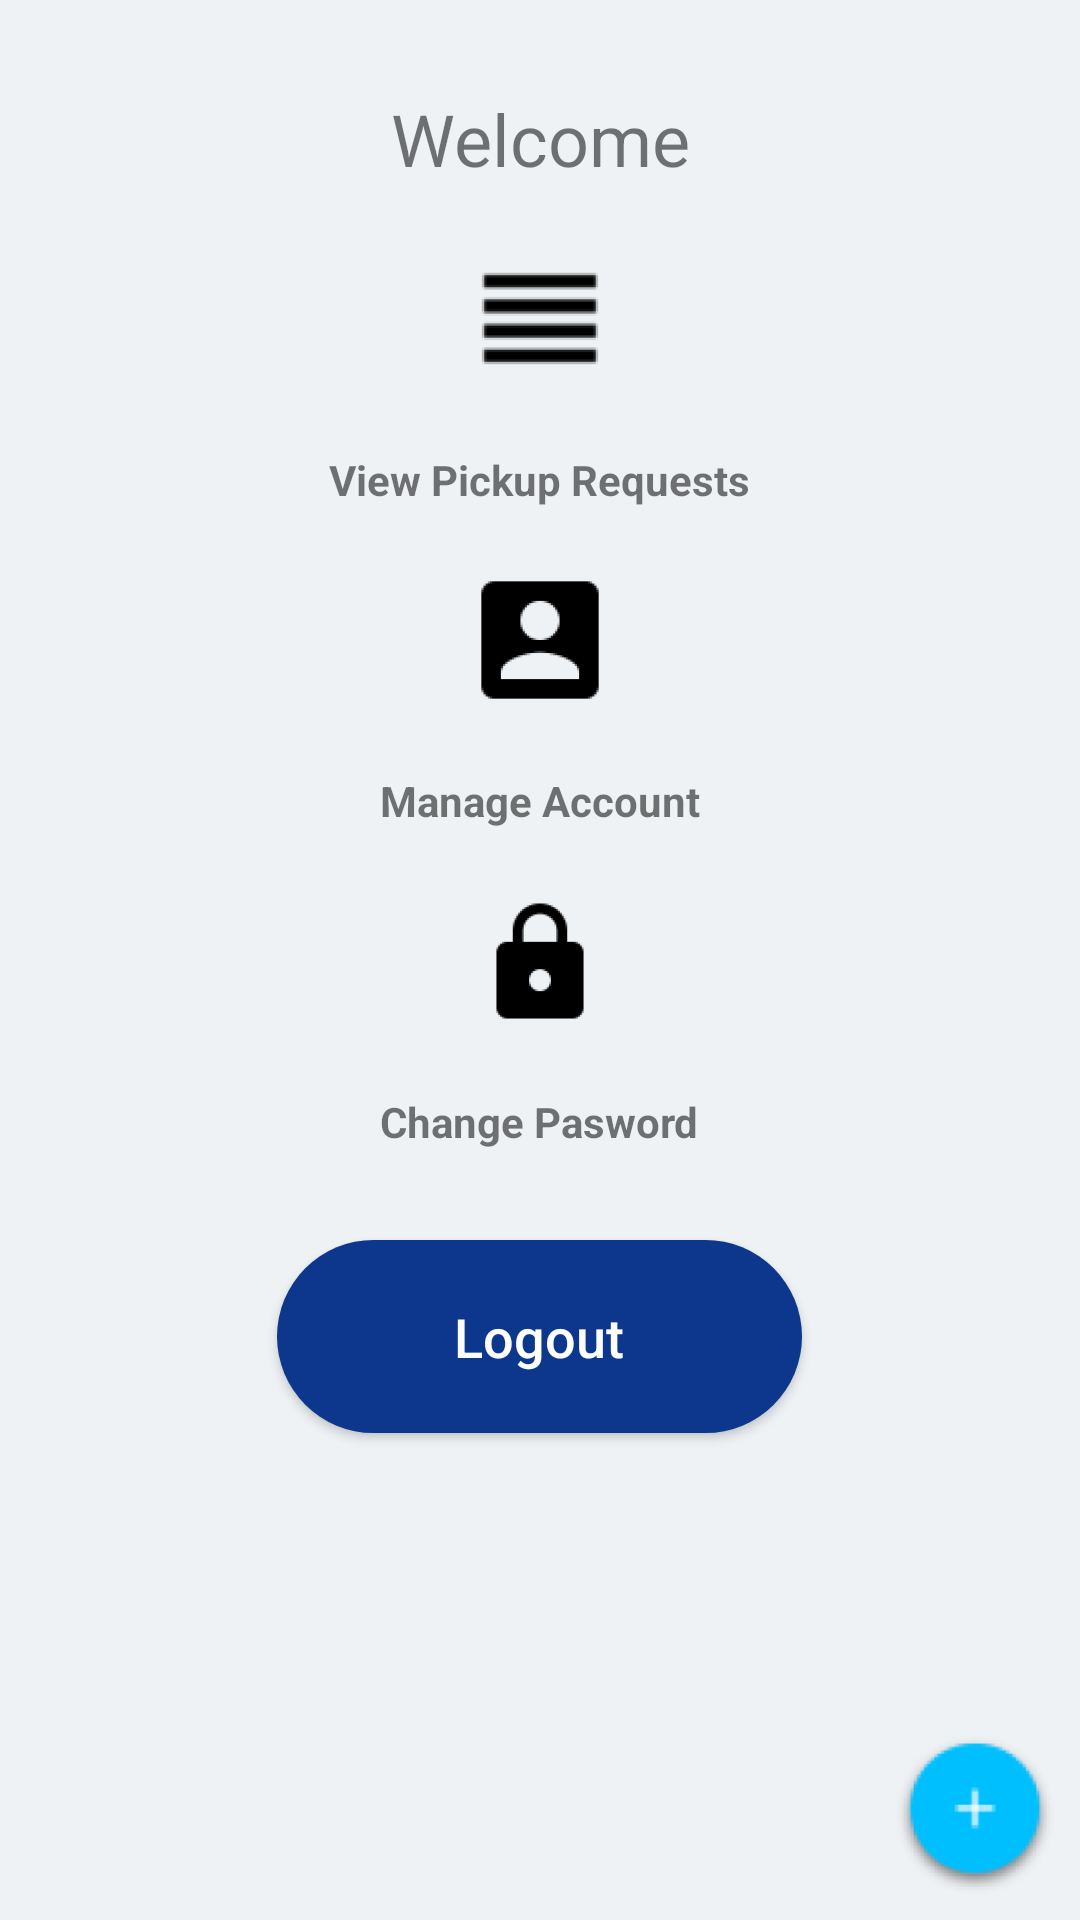

Where icons sit on this 1080*1920 app screen, as (x1, y1, x2, y2):
add: (904, 1743, 1046, 1886)
changepassword: (496, 903, 584, 1019)
